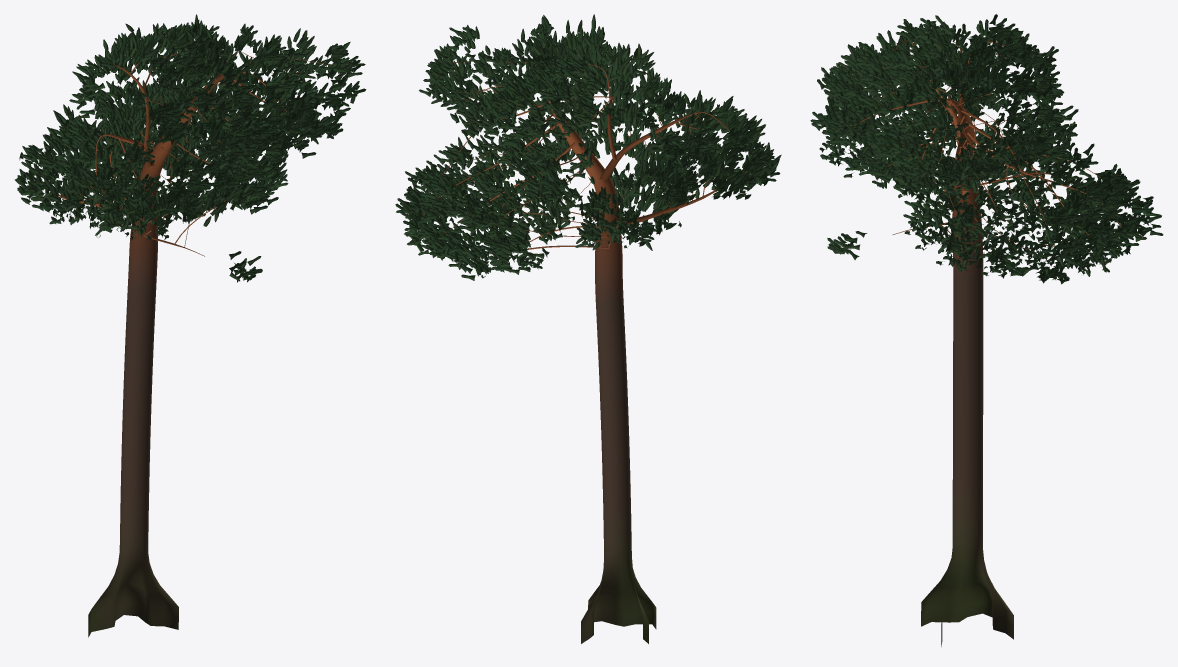
Rendered from SM_Tree_pine_1.glb.
3 renders of one model, left to right at view 1: azimuth 30°, elevation 25°; view 2: azimuth 150°, elevation 25°; view 3: azimuth 270°, elevation 25°, orthographic. The views are drawn at different scales.
Visible parts, largest first — view 1: SM_Tree_pine_1; view 2: SM_Tree_pine_1; view 3: SM_Tree_pine_1.
Part boxes in pixels (x1,y1,x2,y2): SM_Tree_pine_1: (14,14,366,637); SM_Tree_pine_1: (395,14,781,643); SM_Tree_pine_1: (810,14,1163,646).
Size of the model in its own units: 10.88 by 18.06 by 9.17.
